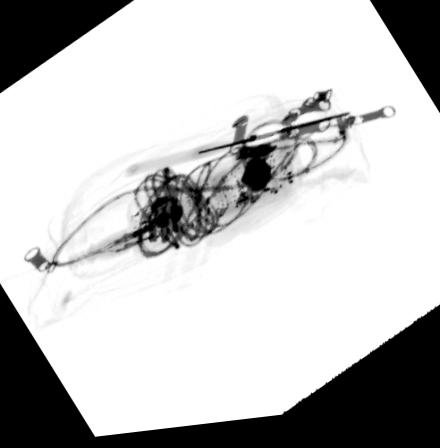Scissors: (123, 118, 349, 178)
